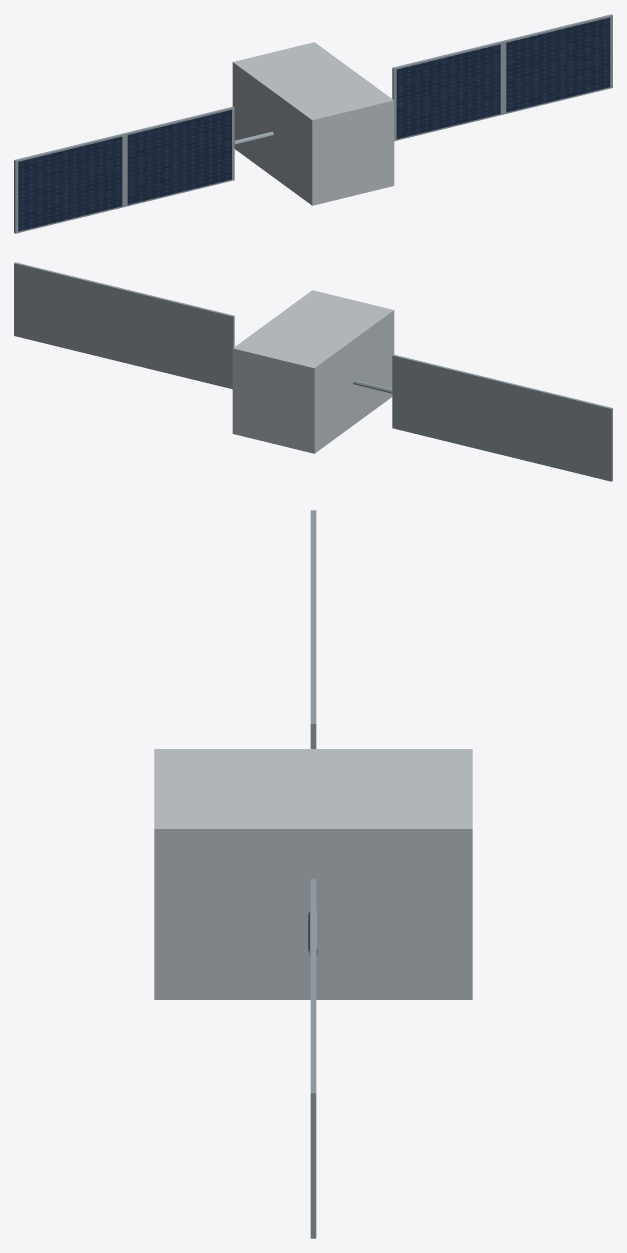
Rendered from ref-timed-26998.glb.
The picture shows the model from 3 angles, top to bottom: view 1: azimuth 30°, elevation 25°; view 2: azimuth 150°, elevation 25°; view 3: azimuth 270°, elevation 25°; orthographic projection. The views are drawn at different scales.
Visible parts, largest first — view 1: Photovoltaic laminates (×4), Spacecraft body, Array frame (×4); view 2: Array frame (×4), Spacecraft body; view 3: Spacecraft body, Array frame.
Boxes of the visible parts, x1,y1,x2,y2 form: Photovoltaic laminates (×4): (18,17,610,231); Spacecraft body: (232,42,394,205); Array frame (×4): (14,14,612,233); Array frame (×4): (14,262,612,481); Spacecraft body: (232,290,394,453); Spacecraft body: (154,749,472,999); Array frame: (310,986,316,1238).
Size of the model in its own units: 11.7 by 1.6 by 2.7.
Materials: 3 (1 with a texture image).
